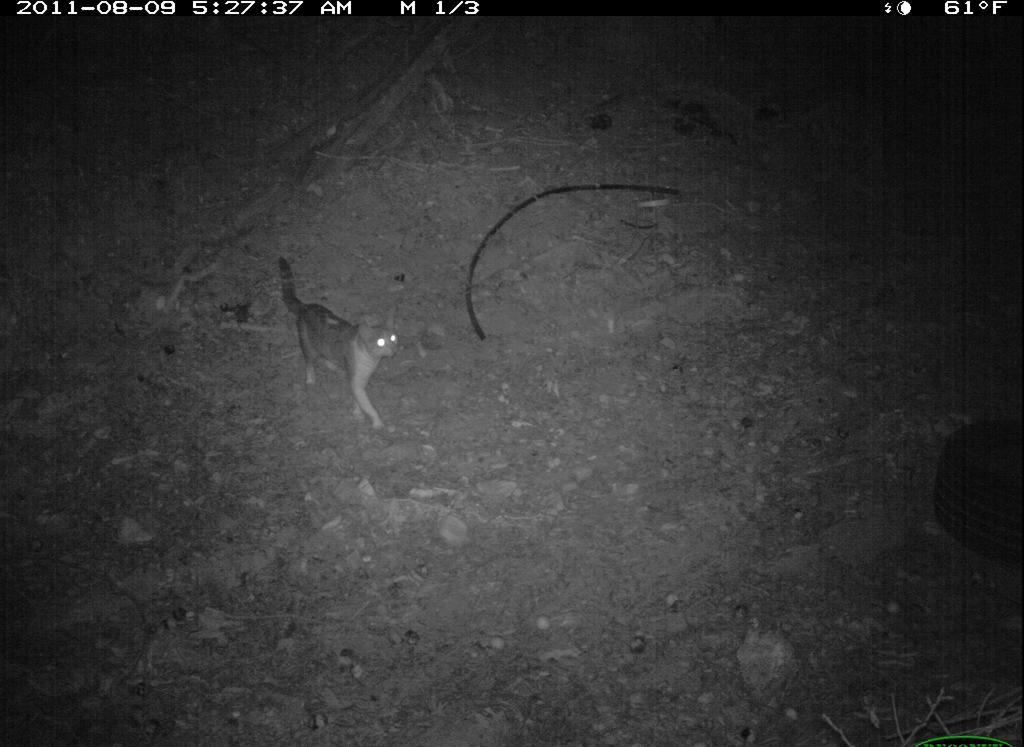cat: (272, 251, 408, 435)
